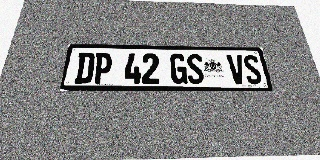2: (142, 53, 159, 84)
4: (124, 53, 142, 84)
D: (74, 52, 95, 84)
G: (170, 54, 188, 84)
P: (92, 52, 113, 84)
S: (242, 55, 263, 84), (186, 54, 205, 84)
V: (226, 55, 247, 84)
